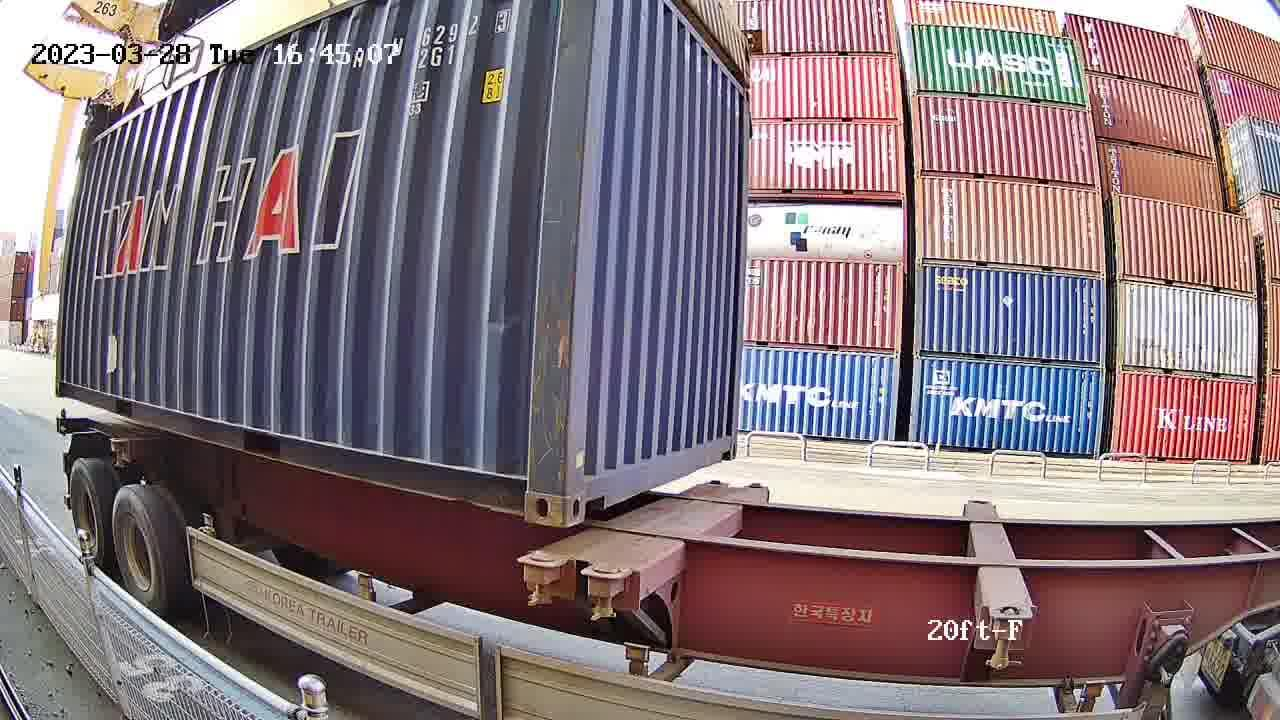Chassis: (585, 485, 766, 606), (518, 480, 726, 567)
Cone: (580, 562, 635, 627), (516, 549, 566, 613)
Hole_L: (565, 450, 617, 529)
Hole_R: (488, 449, 566, 528), (714, 423, 739, 463)
Tire: (112, 487, 169, 617), (69, 462, 109, 572)
